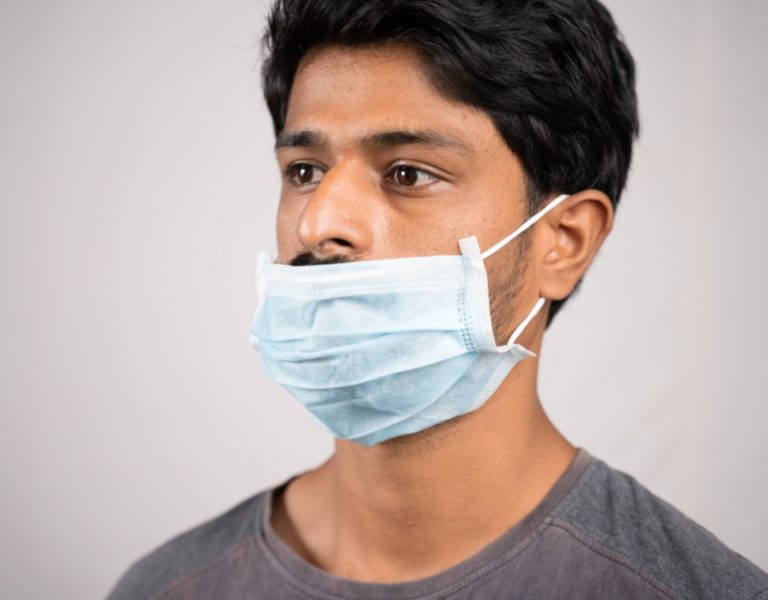with_incorrect_mask: (281, 131, 431, 334)
